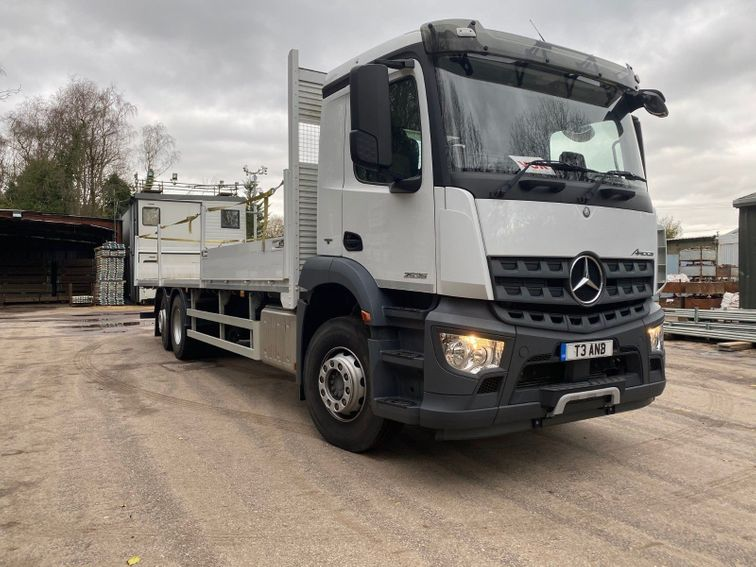Semi: (156, 19, 668, 453)
